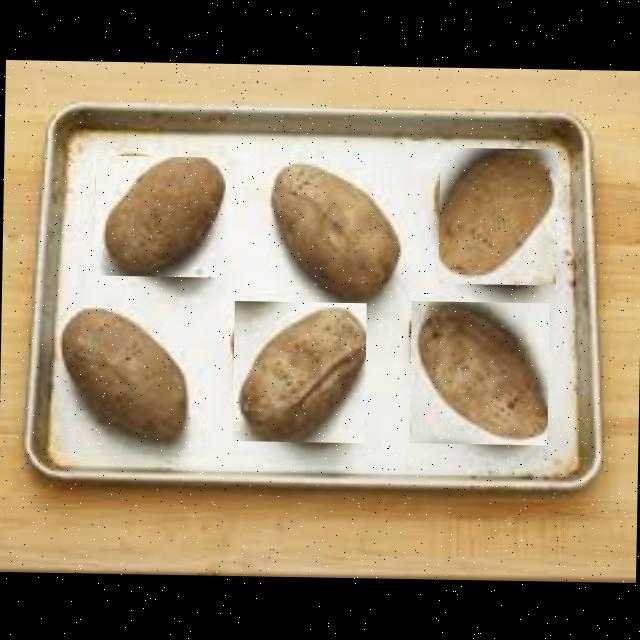Diseased-fungal potato: (408, 300, 548, 444), (266, 157, 406, 296), (231, 299, 365, 442), (59, 306, 194, 444), (437, 146, 557, 284), (93, 154, 225, 276)
